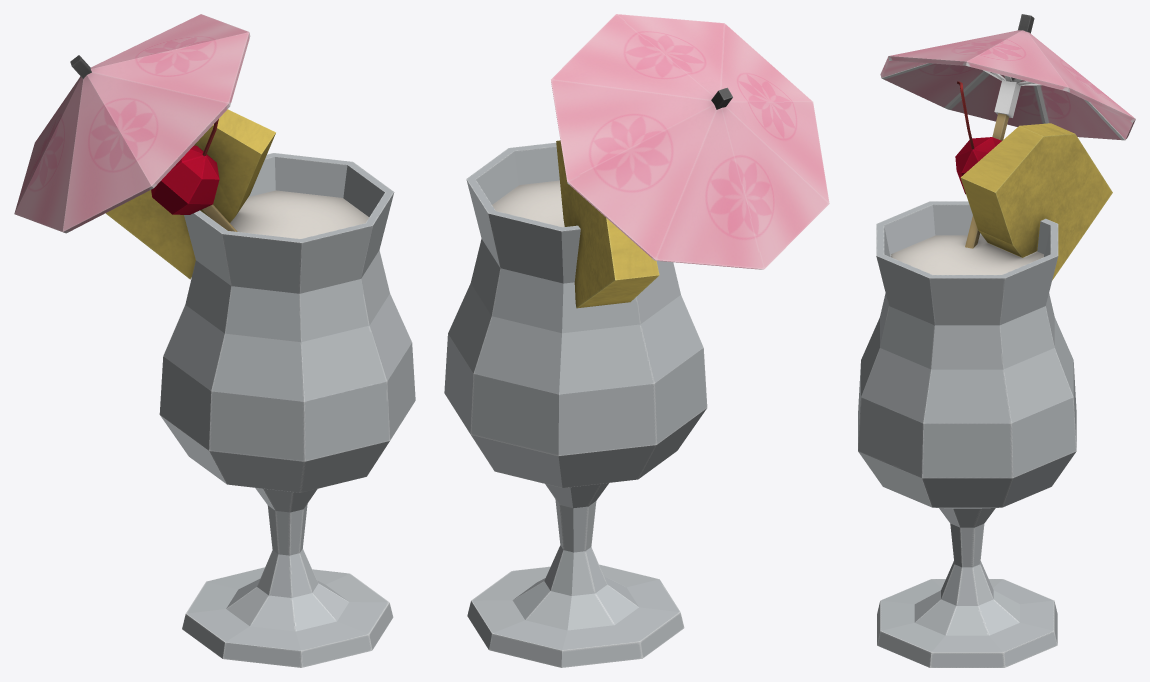
File: 6dace84f-adc4-48cd-b6f4-95bfe42f6677.glb
The picture shows the model from 3 angles, left to right: view 1: azimuth 30°, elevation 25°; view 2: azimuth 150°, elevation 25°; view 3: azimuth 270°, elevation 25°; orthographic projection. The views are drawn at different scales.
Parts seen in each view (by area): view 1: PinaColada_Mesh; view 2: PinaColada_Mesh; view 3: PinaColada_Mesh.
Boxes of the visible parts, x1,y1,x2,y2 form: PinaColada_Mesh: (14, 14, 415, 667); PinaColada_Mesh: (444, 14, 829, 667); PinaColada_Mesh: (858, 14, 1135, 667).
Size of the model in its own units: 1.04 by 1.76 by 0.8054.
Materials: 2 (2 with a texture image).
